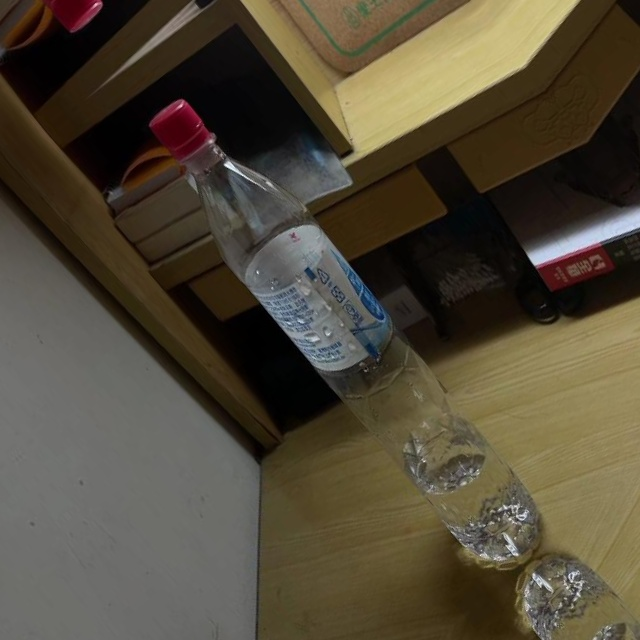Water: (126, 82, 569, 586)
